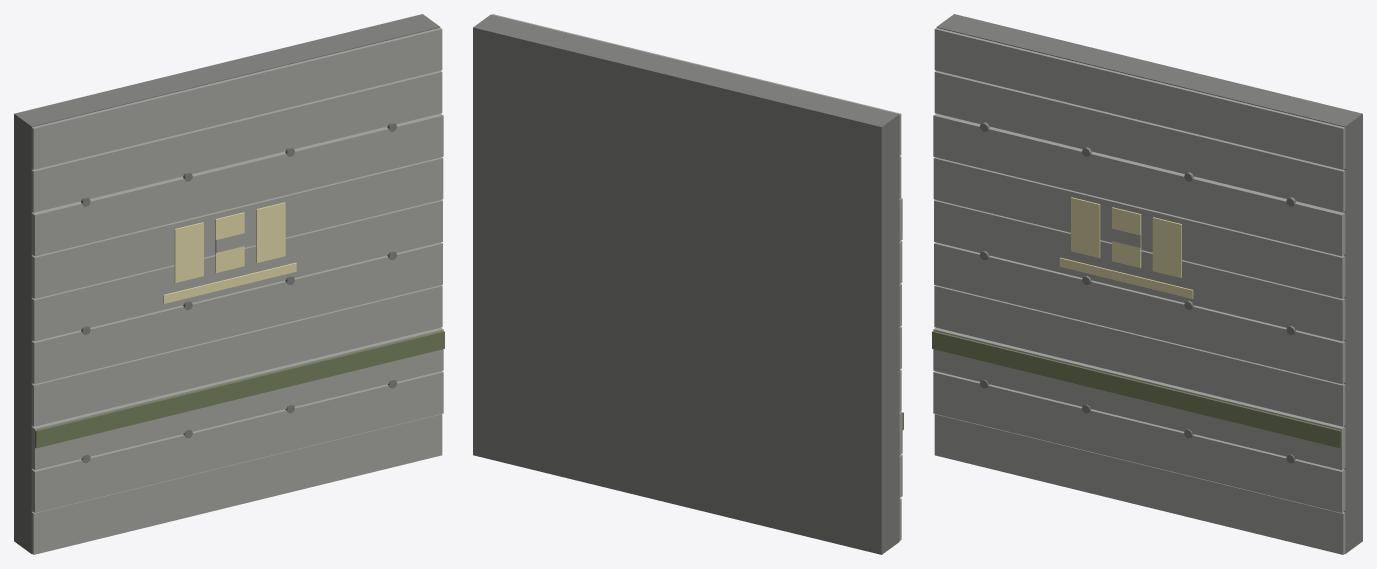
File: wall_bk_concrete.glb
The picture shows the model from 3 angles, left to right: view 1: azimuth 30°, elevation 25°; view 2: azimuth 150°, elevation 25°; view 3: azimuth 330°, elevation 25°; orthographic projection.
Visible parts, largest first — view 1: wall_bk_concrete; view 2: wall_bk_concrete; view 3: wall_bk_concrete.
Boxes of the visible parts, bbox=[...] form: wall_bk_concrete: bbox=[14, 14, 444, 554]; wall_bk_concrete: bbox=[473, 14, 903, 554]; wall_bk_concrete: bbox=[932, 14, 1362, 554].
Size of the model in its own units: 4 by 4 by 0.379.
